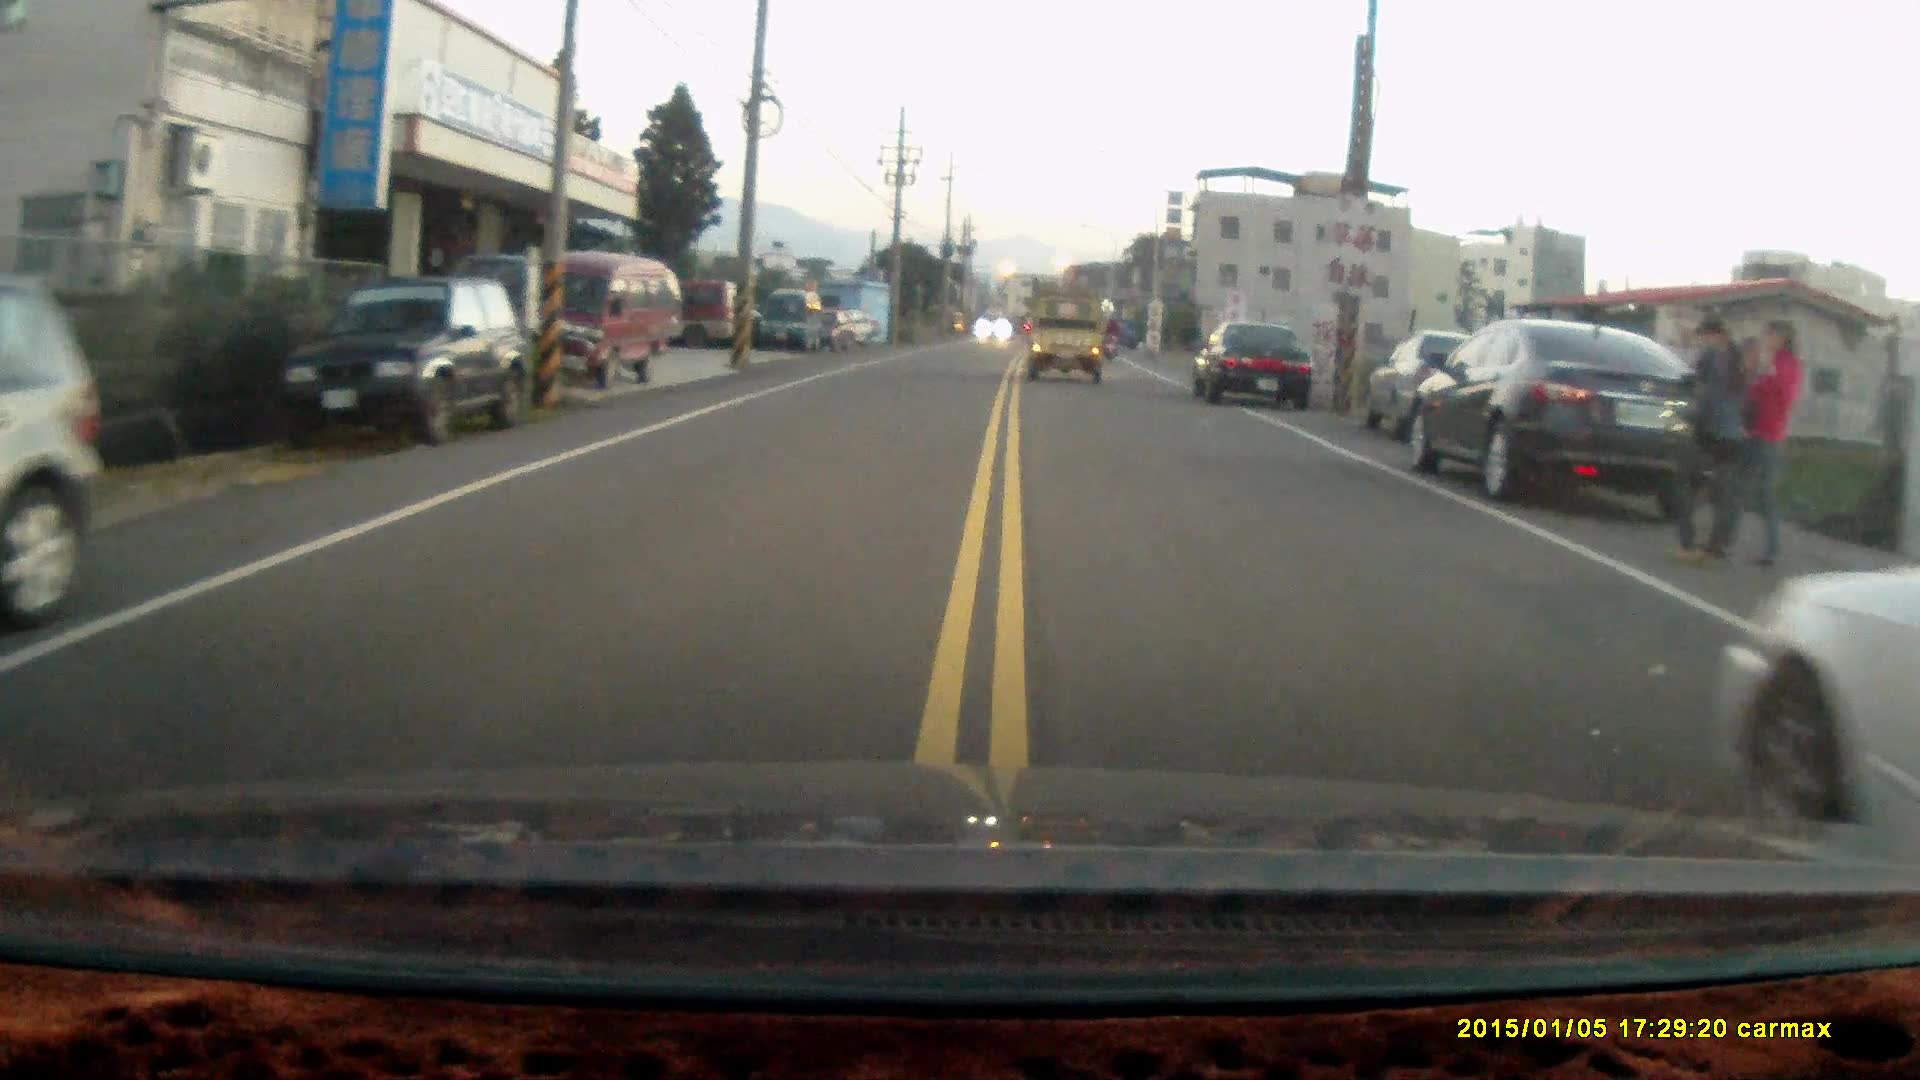pedestrian: (1665, 315, 1750, 568), (1730, 314, 1804, 563)
vehicle: (1721, 514, 1920, 849), (1404, 317, 1743, 510), (286, 273, 528, 449), (4, 283, 108, 618), (508, 250, 685, 383), (1191, 313, 1316, 406), (1028, 291, 1112, 384), (756, 287, 828, 351)
